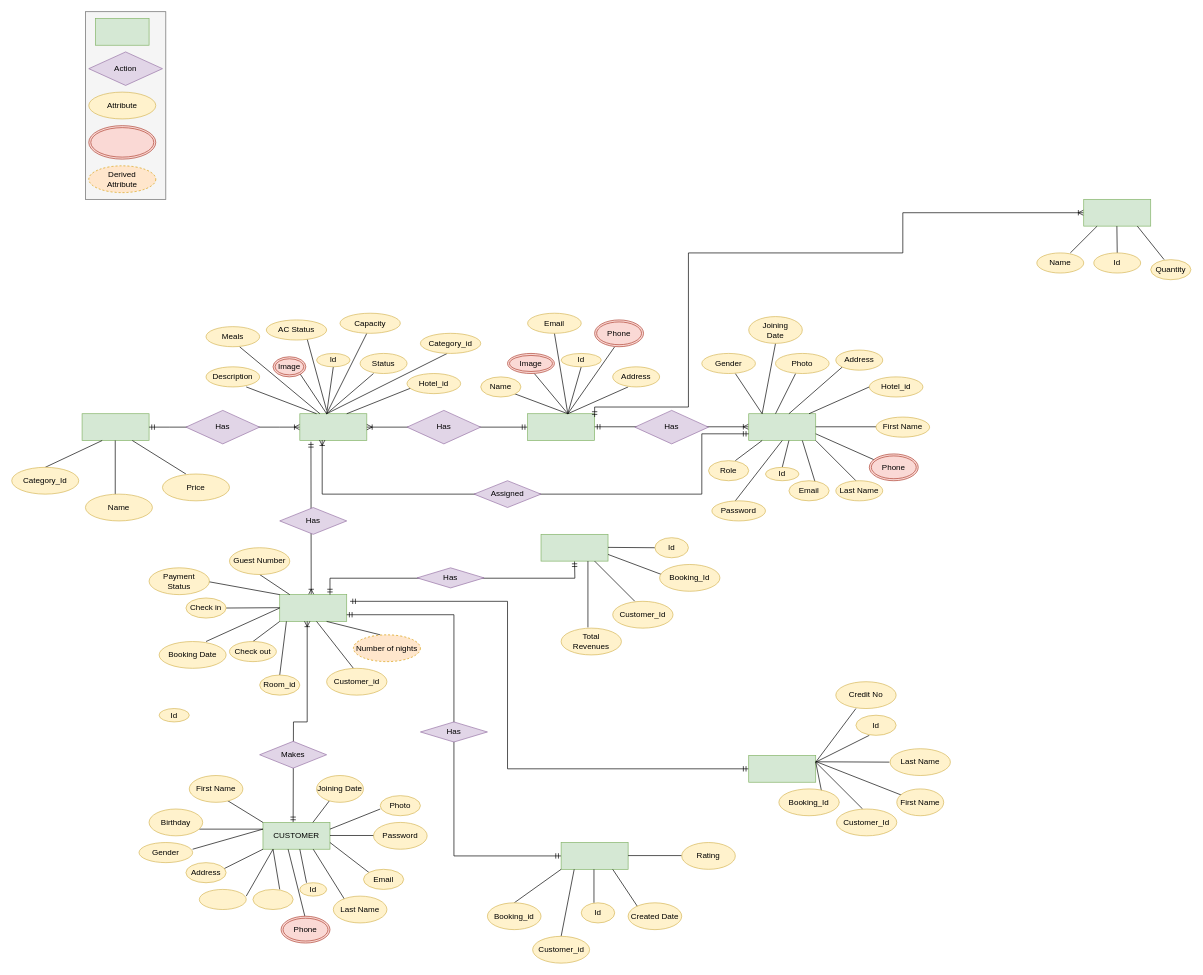
Image size: 1203x975. Some labels were removed from this diagram. The shapes that lost their labels are listed below. From the top down, each one's centre as x and y in pixels, then its label:
At (122,31): "Entity".
At (122,142): "Multivated Attribute".
At (1117,212): "Inventory".
At (115,427): "Category".
At (333,427): "ROOM".
At (561,427): "HOTEL".
At (782,427): "STAFF".
At (574,547): "Statistics".
At (313,607): "BOOKING".
At (782,768): "Payment".
At (594,855): "Review".
At (222,899): "Zip Code".
At (272,899): "State".
